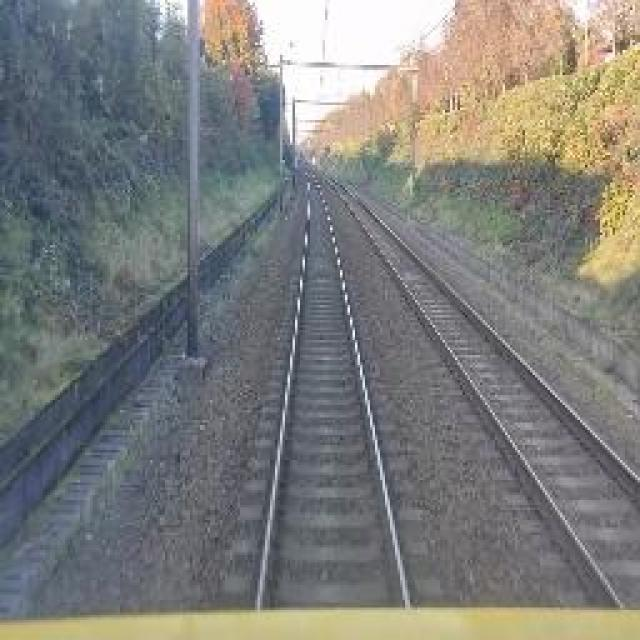rail: (216, 165, 448, 603)
